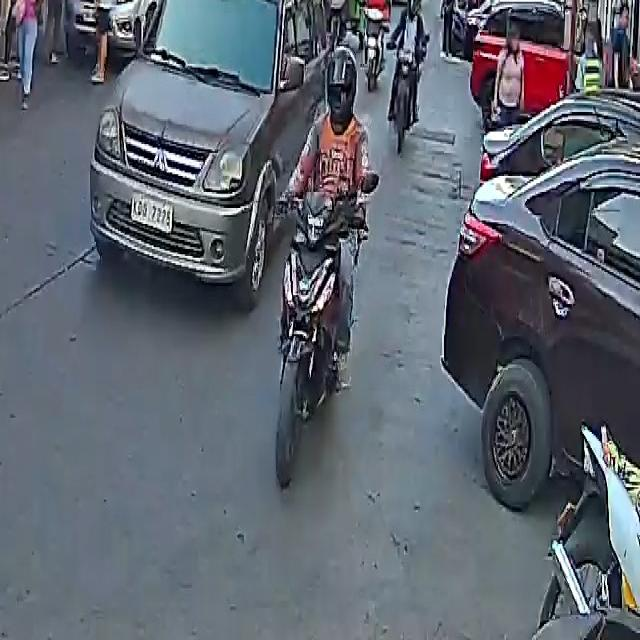car: (445, 112, 640, 520), (92, 0, 343, 295), (464, 0, 640, 117), (79, 0, 197, 82)
